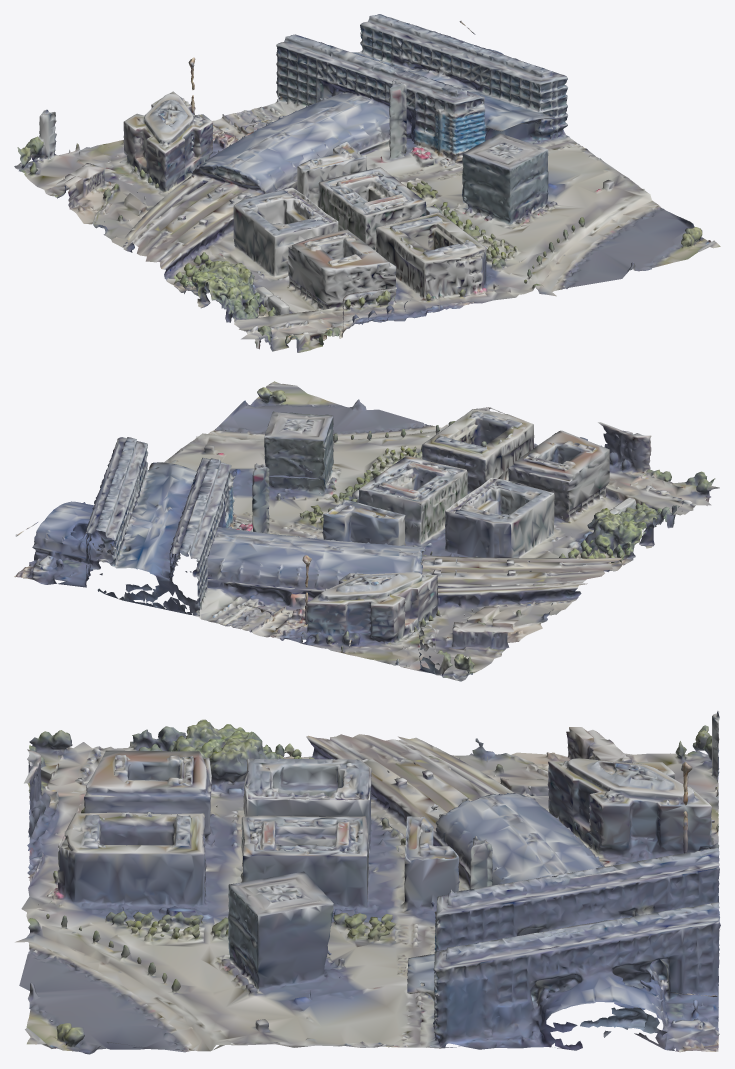
Rendered from tile-3890_58203.glb.
3 views of the same model, one above another, from view 1: azimuth 30°, elevation 25°; view 2: azimuth 150°, elevation 25°; view 3: azimuth 270°, elevation 25° (orthographic). The views are drawn at different scales.
Parts seen in each view (by area): view 1: world; view 2: world; view 3: world.
Boxes of the visible parts, x1,y1,x2,y2 form: world: [14, 14, 720, 352]; world: [14, 381, 719, 681]; world: [15, 710, 720, 1054].
Bounding box in the file's own units: 370 × 67.08 × 370.
